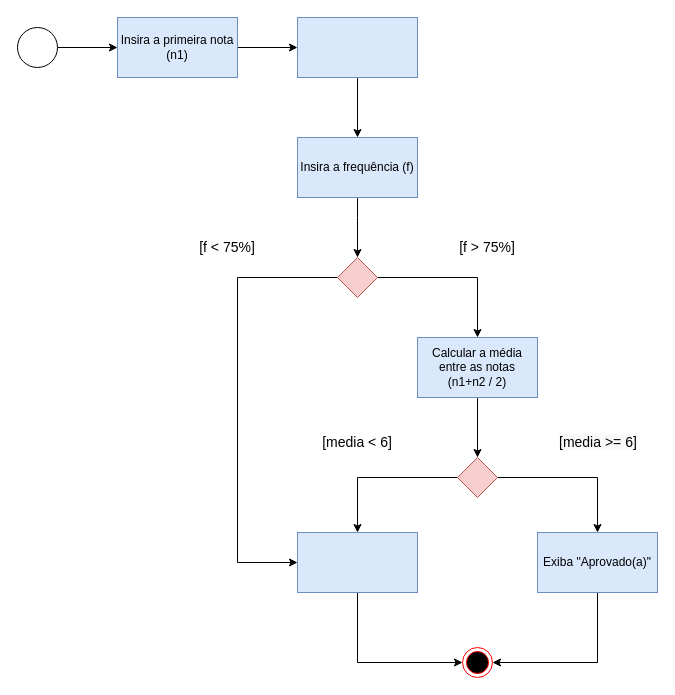
Image size: 675x695. Some labels were removed from this diagram. Here are the shapes that lost their labels. From the top down, the centre of each, then its label:
[357,47]: Insira a segunda nota (n2)
[357,562]: Exiba "Reprovado"
